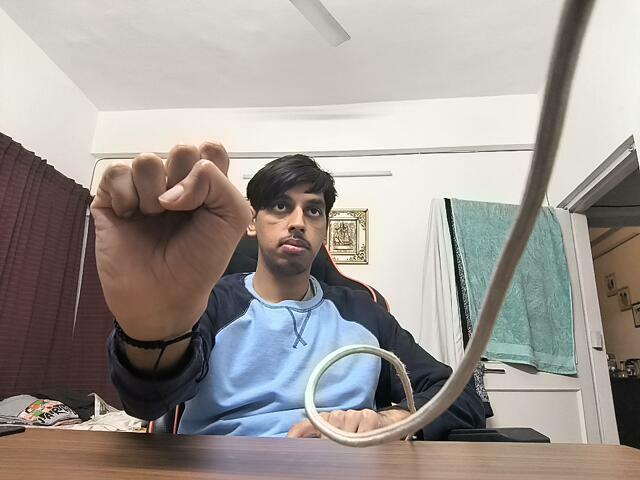DOWN: (72, 136, 257, 348)
